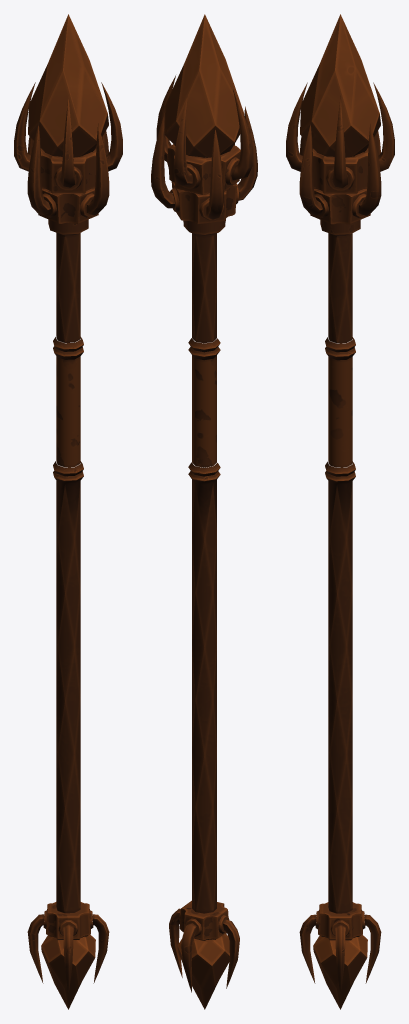
The model's file is rpg_weapon_staff.glb.
3 views of the same model, side by side, from view 1: azimuth 90°, elevation 25°; view 2: azimuth 150°, elevation 25°; view 3: azimuth 270°, elevation 25° (orthographic).
Visible parts, largest first — view 1: rpg_weapon_staff; view 2: rpg_weapon_staff; view 3: rpg_weapon_staff.
Part boxes in pixels (x1,y1,x2,y2): rpg_weapon_staff: (14, 14, 122, 1009); rpg_weapon_staff: (151, 14, 257, 1009); rpg_weapon_staff: (286, 14, 394, 1009).
Bounding box in the file's own units: 0.2192 × 2.21 × 0.2192.
1 material, 1 textured.
